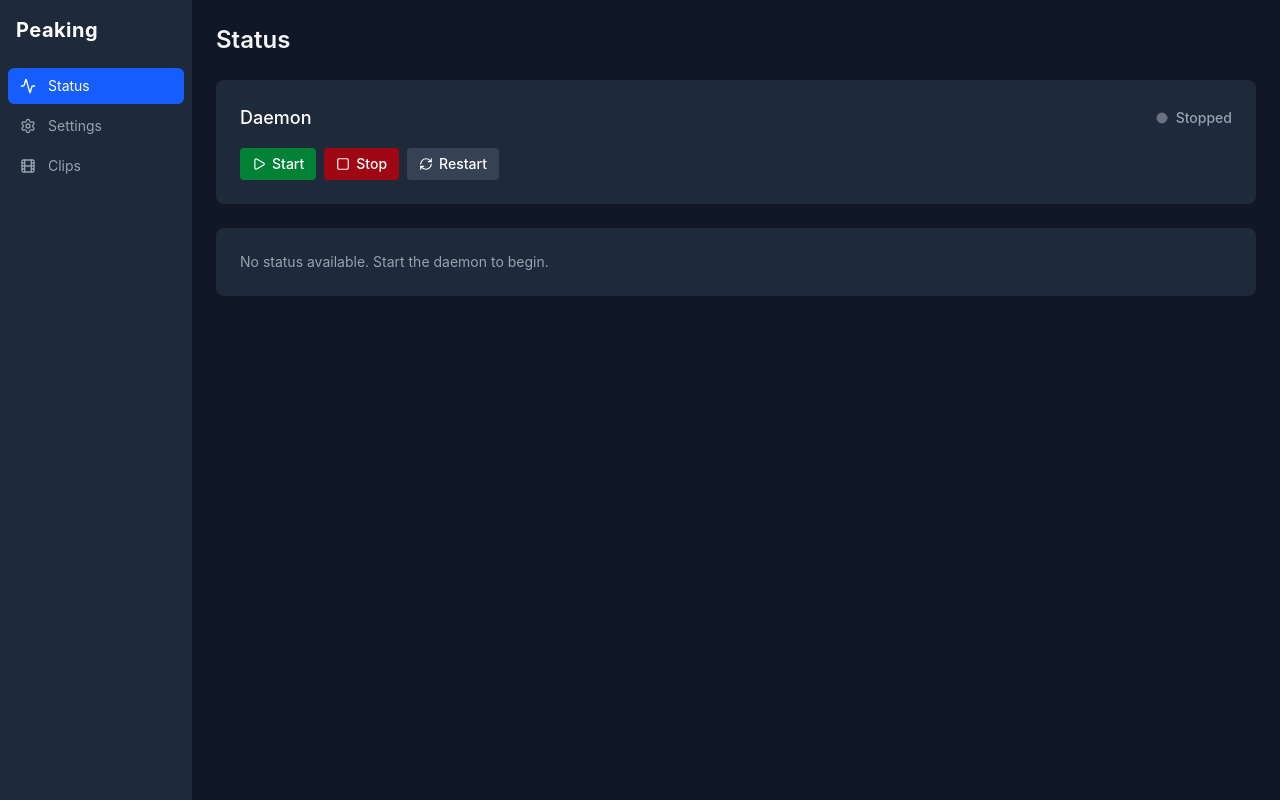
App › navigates to the settings page
This screenshot has width=1280, height=800.
Click the button "Settings" at (96, 126), box [8,108,184,144]
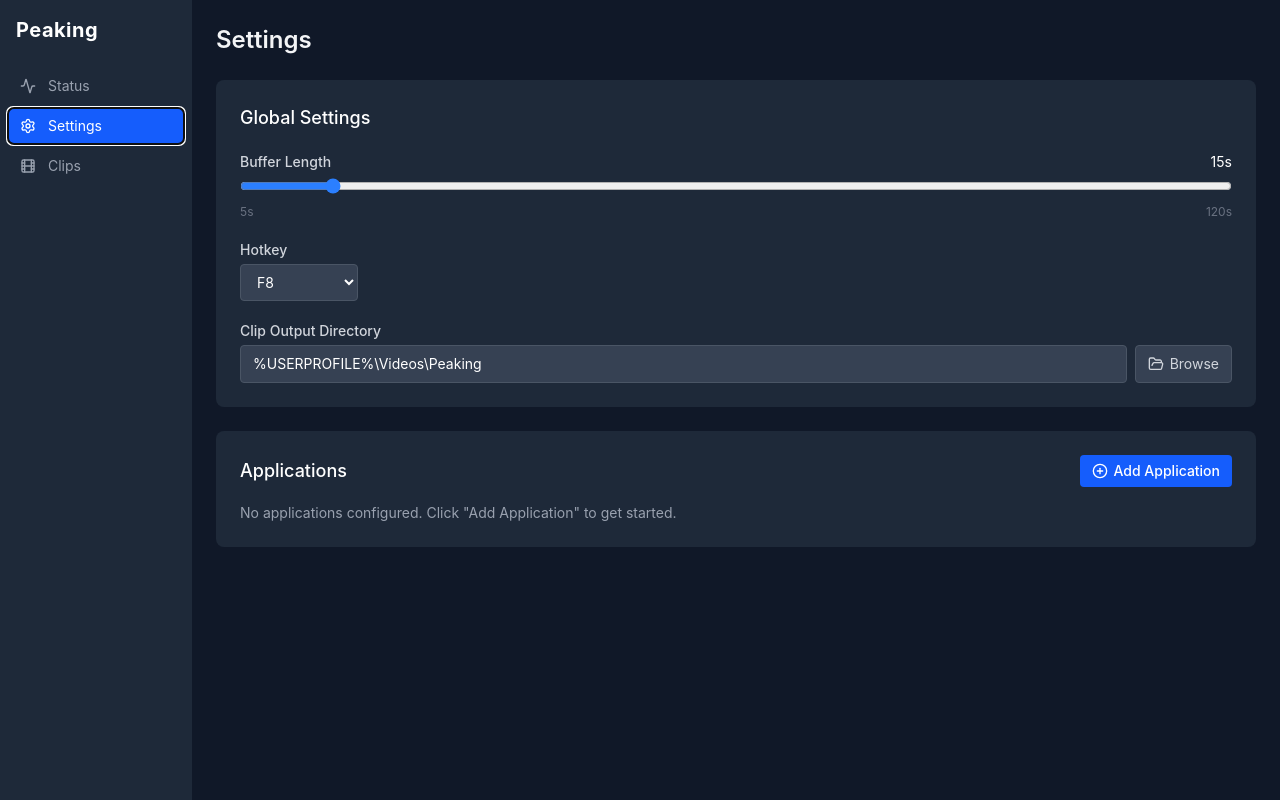
Expected: the heading "Settings" is shown, [216,25,312,54]
